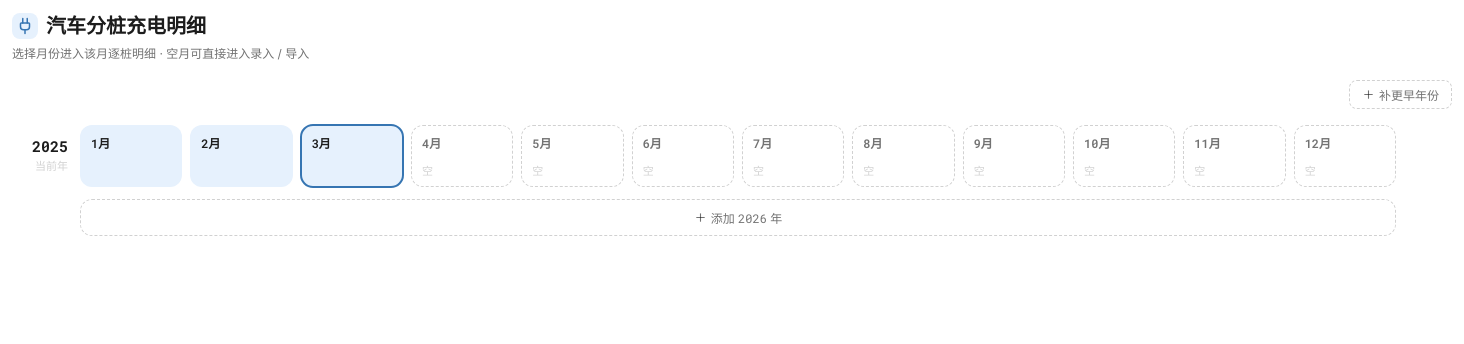
分桩充电明细 · 选期动线 › ❗换月取数失败 → 说出来 + 清空,不许「新期标题 + 上一期数字」
Click the button with class "bmm-card" showing "3月".
click(352, 156)  # box [301, 125, 403, 187]
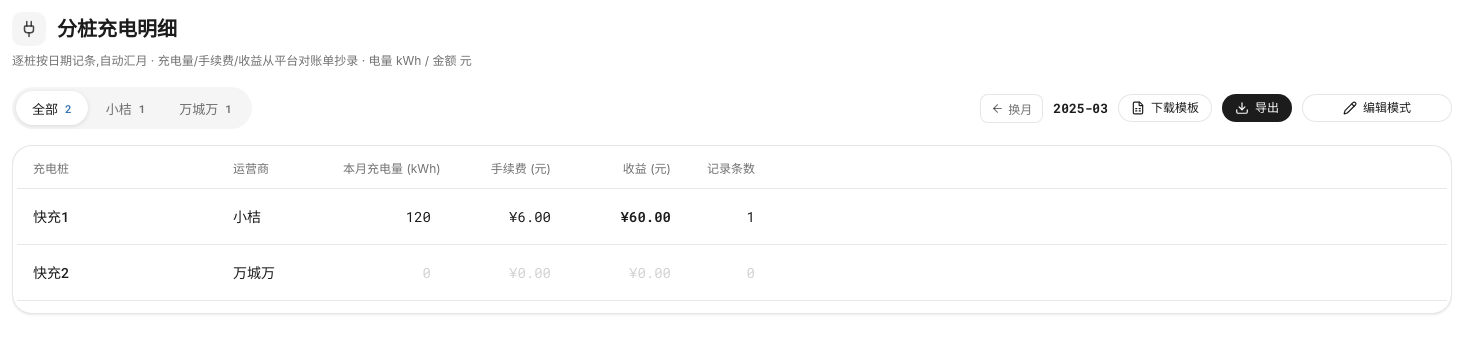
Expected: the text with class "cm-per" reads "2025-03", [1053, 99, 1108, 117]
Click the button with class "cm-permonth".
click(1012, 108)  # box [980, 94, 1043, 122]
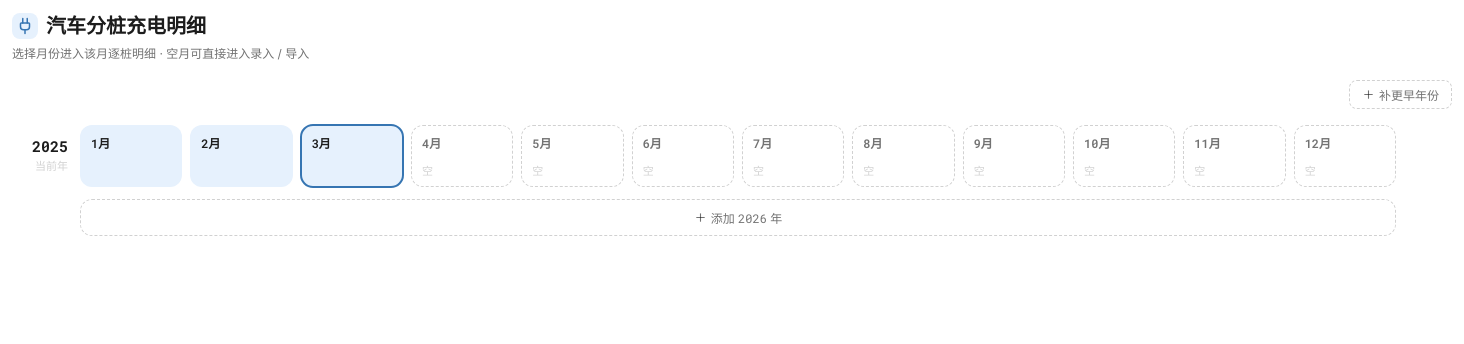
Click the button with class "bmm-card" showing "7月 空".
click(793, 156)  # box [742, 125, 844, 187]
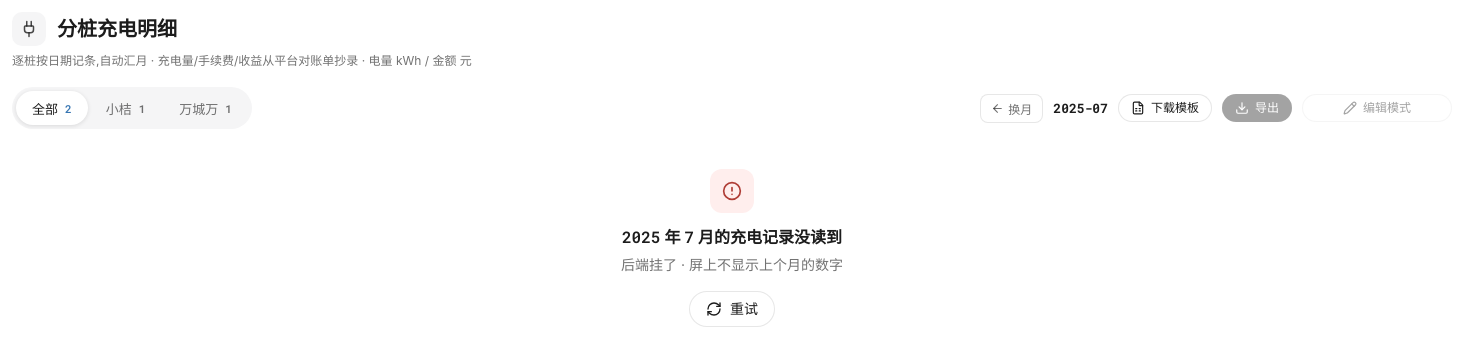
Expected: the text with class "cm-per" reads "2025-07", [1053, 99, 1108, 117]
Expected: the message "2025 年 7 月的充电记录没读到 后端挂了 · 屏上不显示上个月的数字 重试" is shown, [621, 169, 843, 327]
Expected: the text "后端挂了" is shown, [621, 256, 843, 273]
